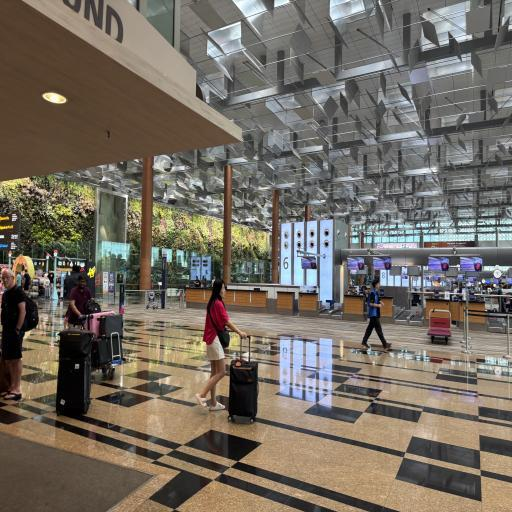person_right: (368, 272, 388, 354)
person_with_luggage_right: (208, 269, 264, 426)
